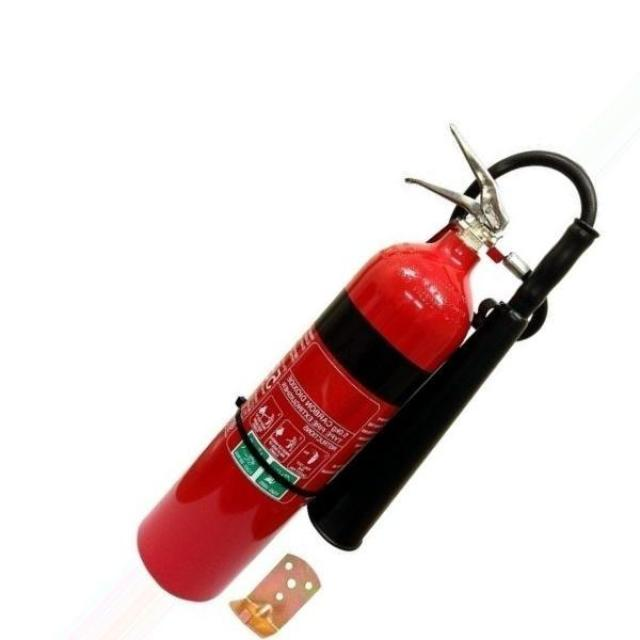fire_extinguisher: (131, 118, 603, 606)
